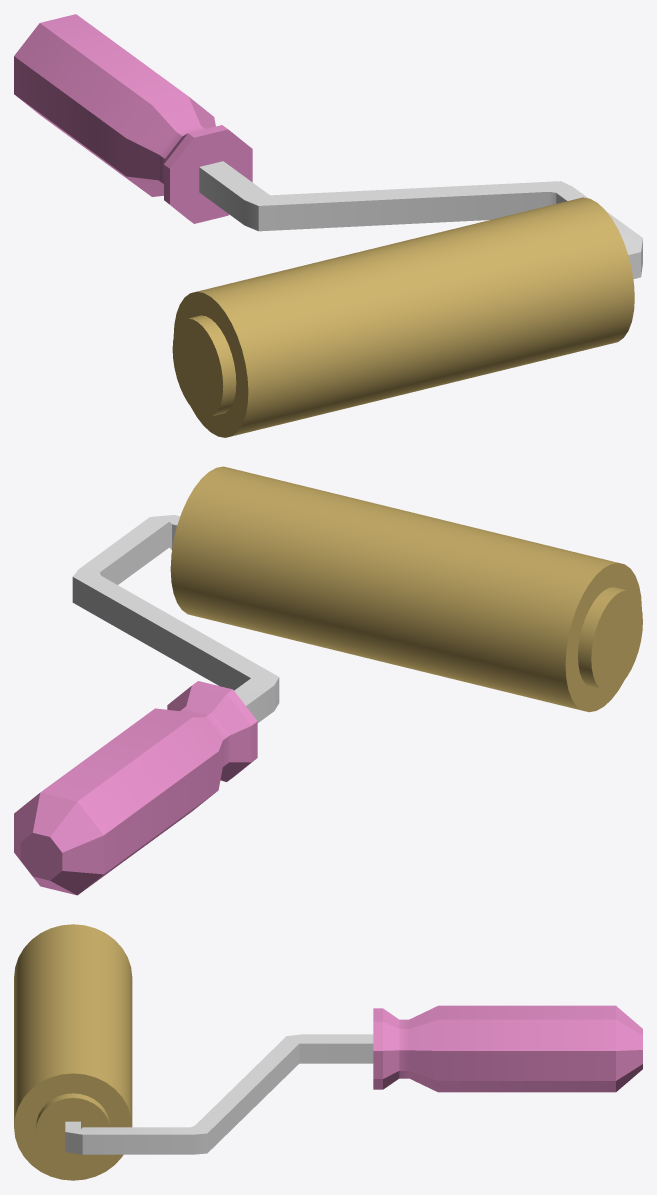
Rendered from Brush2.fbx.
3 renders of one model, top to bottom at view 1: azimuth 30°, elevation 25°; view 2: azimuth 150°, elevation 25°; view 3: azimuth 270°, elevation 25°, orthographic. The views are drawn at different scales.
Visible parts, largest first — view 1: Cylinder; view 2: Cylinder; view 3: Cylinder.
Part boxes in pixels (box(x1,y1,x2,y2)): Cylinder: box(14, 14, 642, 437); Cylinder: box(14, 466, 642, 895); Cylinder: box(14, 924, 642, 1180).
Bounding box in the file's own units: 26.91 × 7.73 × 41.07.
